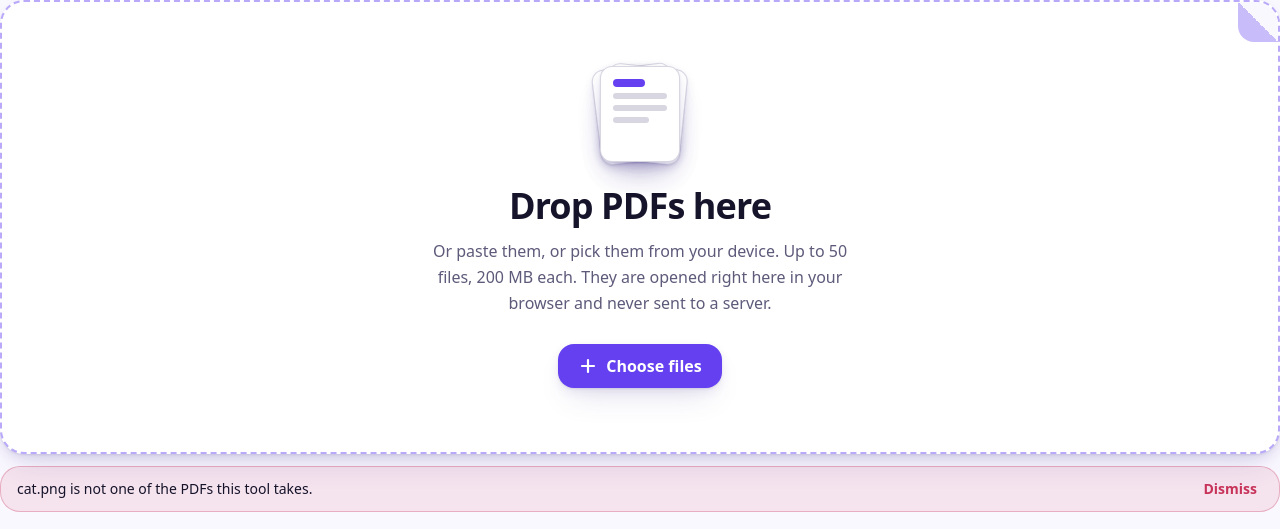
Test: DropZone › explains files it leaves out and lets you dismiss that
Earlier steps of the test are not shown.
Expected: the list item "cat.png is not one of the PDFs this tool takes." is shown, x1=17 y1=479 x2=312 y2=498
Click the button "Dismiss": (1230, 489) x1=1198 y1=479 x2=1263 y2=499
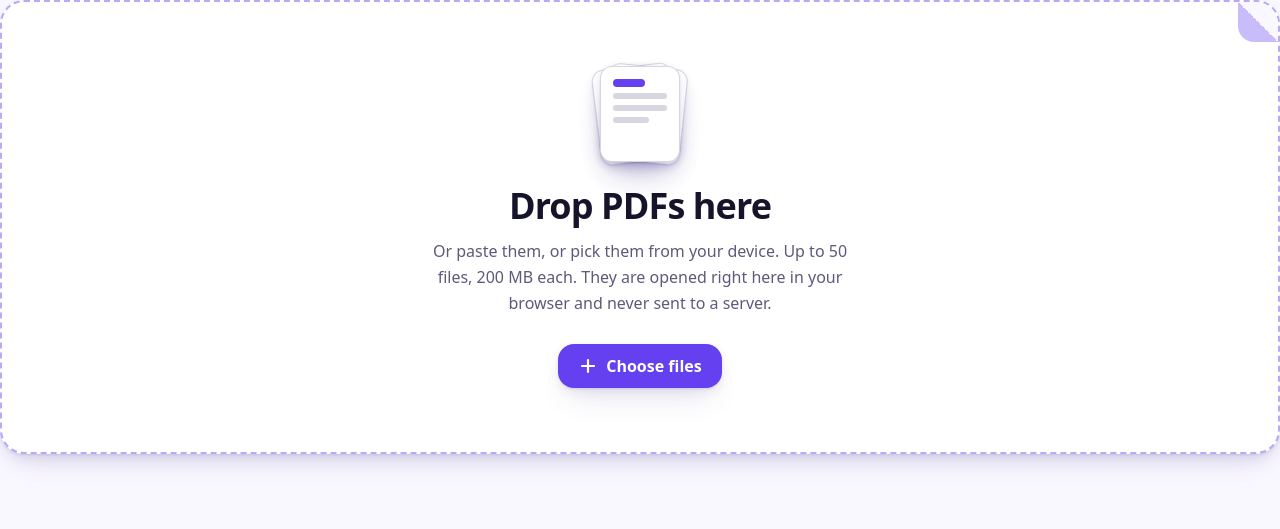
Now the list item "cat.png" is gone
